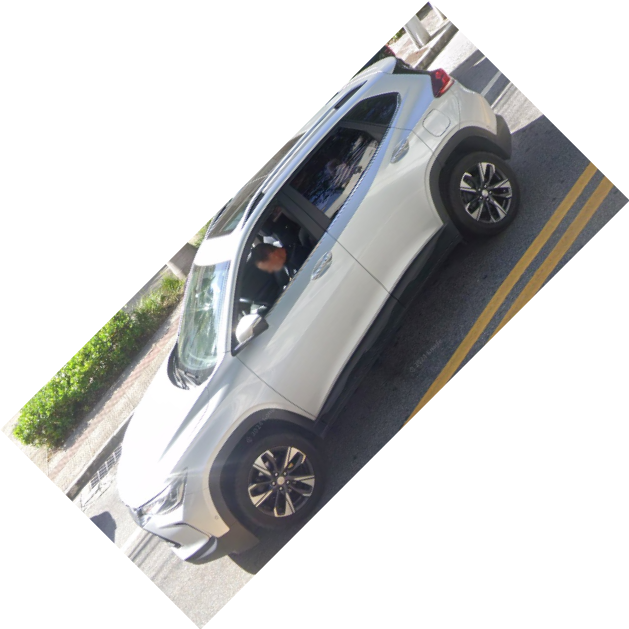car: (114, 56, 519, 566)
